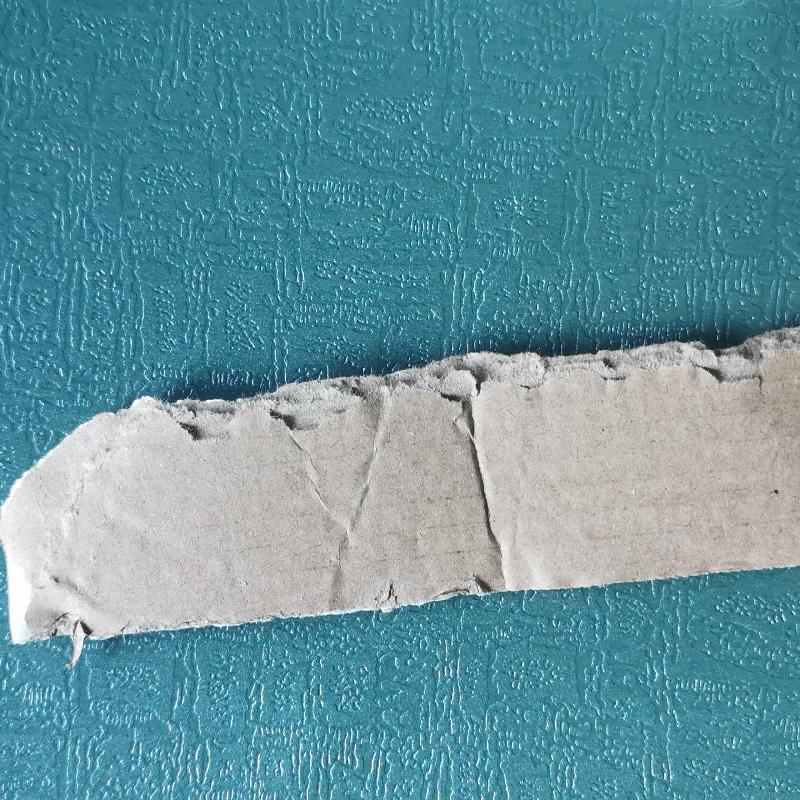boxes: (0, 314, 799, 656)
